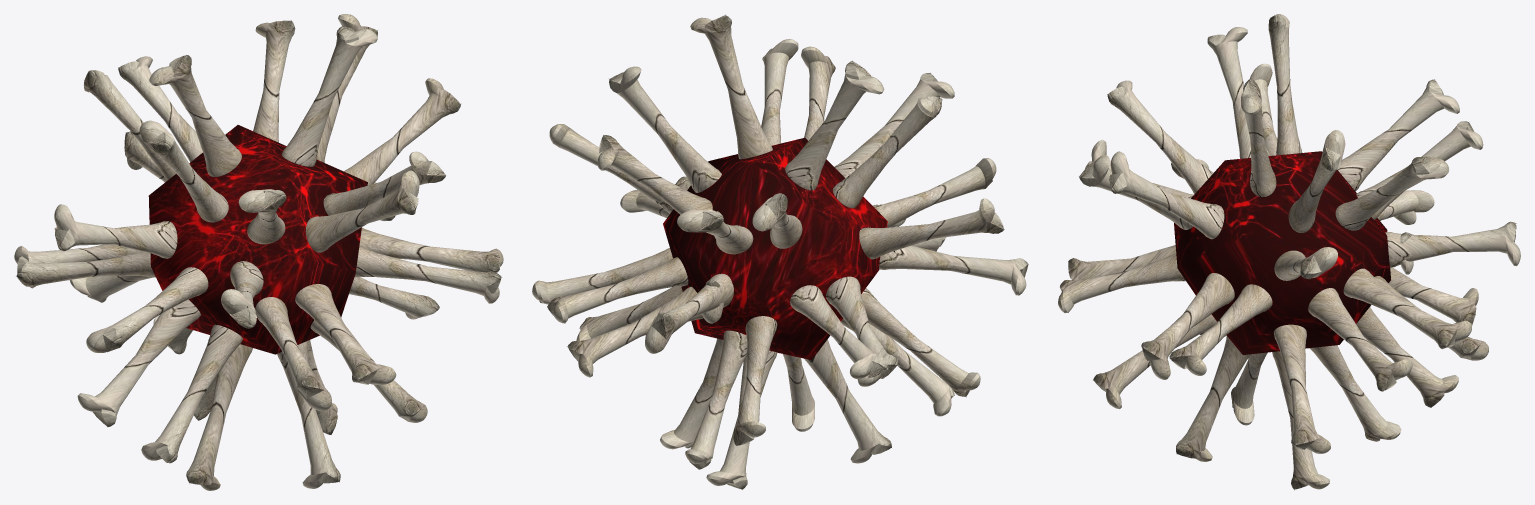
Rendered from spiketrap.fbx.
3 renders of one model, left to right at view 1: azimuth 30°, elevation 25°; view 2: azimuth 150°, elevation 25°; view 3: azimuth 270°, elevation 25°, orthographic. The views are drawn at different scales.
Visible parts, largest first — view 1: Icosphere, Icosphere|Cube|Dupli|22, Icosphere|Cube|Dupli|26, Icosphere|Cube|Dupli|2, Icosphere|Cube|Dupli|3, Icosphere|Cube|Dupli|24, Icosphere|Cube|Dupli|31, Icosphere|Cube|Dupli|32, Icosphere|Cube|Dupli|1, Icosphere|Cube|Dupli|4, Icosphere|Cube|Dupli|19, Icosphere|Cube|Dupli|23 (+18 smaller); view 2: Icosphere, Icosphere|Cube|Dupli|26, Icosphere|Cube|Dupli|3, Icosphere|Cube|Dupli|18, Icosphere|Cube|Dupli|24, Icosphere|Cube|Dupli|23, Icosphere|Cube|Dupli|9, Icosphere|Cube|Dupli|25, Icosphere|Cube|Dupli|8, Icosphere|Cube|Dupli|4, Icosphere|Cube|Dupli|11, Icosphere|Cube|Dupli|7 (+19 smaller); view 3: Icosphere, Icosphere|Cube|Dupli|6, Icosphere|Cube|Dupli|12, Icosphere|Cube|Dupli|33, Icosphere|Cube|Dupli|15, Icosphere|Cube|Dupli|9, Icosphere|Cube|Dupli|14, Icosphere|Cube|Dupli|31, Icosphere|Cube|Dupli|27, Icosphere|Cube|Dupli|21, Icosphere|Cube|Dupli|30, Icosphere|Cube|Dupli|5 (+18 smaller).
Boxes of the visible parts, <box> form: Icosphere: <box>148,125,367,354</box>; Icosphere|Cube|Dupli|22: <box>77,299,200,427</box>; Icosphere|Cube|Dupli|26: <box>281,26,377,166</box>; Icosphere|Cube|Dupli|2: <box>141,324,242,463</box>; Icosphere|Cube|Dupli|3: <box>149,55,241,176</box>; Icosphere|Cube|Dupli|24: <box>54,204,177,258</box>; Icosphere|Cube|Dupli|31: <box>354,246,501,303</box>; Icosphere|Cube|Dupli|32: <box>305,170,419,252</box>; Icosphere|Cube|Dupli|1: <box>295,284,396,384</box>; Icosphere|Cube|Dupli|4: <box>186,344,252,490</box>; Icosphere|Cube|Dupli|19: <box>344,78,461,185</box>; Icosphere|Cube|Dupli|23: <box>86,267,208,352</box>; Icosphere: <box>663,137,887,360</box>; Icosphere|Cube|Dupli|26: <box>690,14,772,159</box>; Icosphere|Cube|Dupli|3: <box>785,60,884,190</box>; Icosphere|Cube|Dupli|18: <box>609,66,721,192</box>; Icosphere|Cube|Dupli|24: <box>859,198,1004,259</box>; Icosphere|Cube|Dupli|23: <box>879,245,1028,295</box>; Icosphere|Cube|Dupli|9: <box>547,257,688,323</box>; Icosphere|Cube|Dupli|25: <box>832,96,942,208</box>; Icosphere|Cube|Dupli|8: <box>685,330,747,469</box>; Icosphere|Cube|Dupli|4: <box>804,339,891,463</box>; Icosphere|Cube|Dupli|11: <box>733,316,777,445</box>; Icosphere|Cube|Dupli|7: <box>790,285,888,378</box>; Icosphere: <box>1174,151,1390,354</box>; Icosphere|Cube|Dupli|6: <box>1337,79,1459,191</box>; Icosphere|Cube|Dupli|12: <box>1385,221,1520,267</box>; Icosphere|Cube|Dupli|33: <box>1109,151,1224,239</box>; Icosphere|Cube|Dupli|15: <box>1274,324,1330,453</box>; Icosphere|Cube|Dupli|9: <box>1343,268,1471,349</box>; Icosphere|Cube|Dupli|14: <box>1308,288,1412,391</box>; Icosphere|Cube|Dupli|31: <box>1141,273,1234,379</box>; Icosphere|Cube|Dupli|27: <box>1169,284,1272,375</box>; Icosphere|Cube|Dupli|21: <box>1176,336,1250,461</box>; Icosphere|Cube|Dupli|30: <box>1107,80,1213,193</box>; Icosphere|Cube|Dupli|5: <box>1335,156,1449,230</box>.
Bounding box in the file's own units: 64.37 × 61.17 × 62.8.
